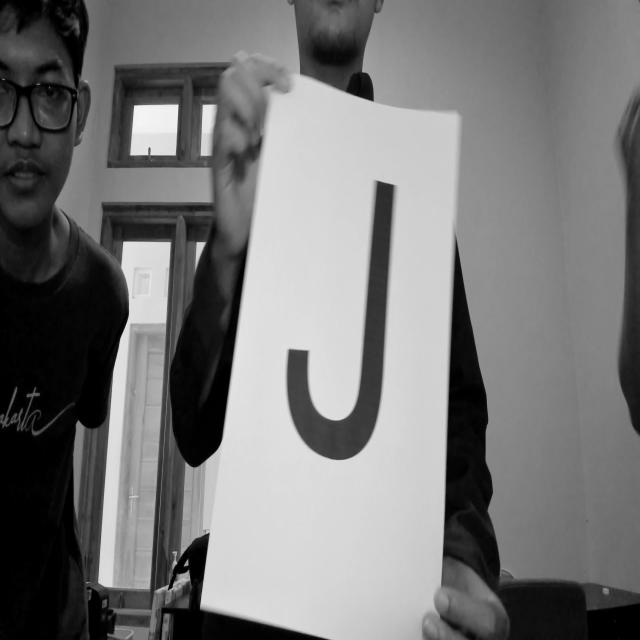j: (278, 170, 400, 498)
